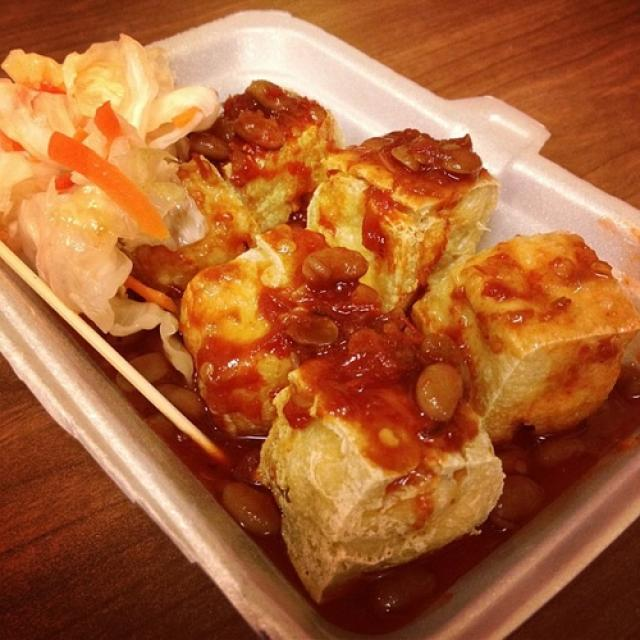豆腐料理: (1, 8, 630, 610)
